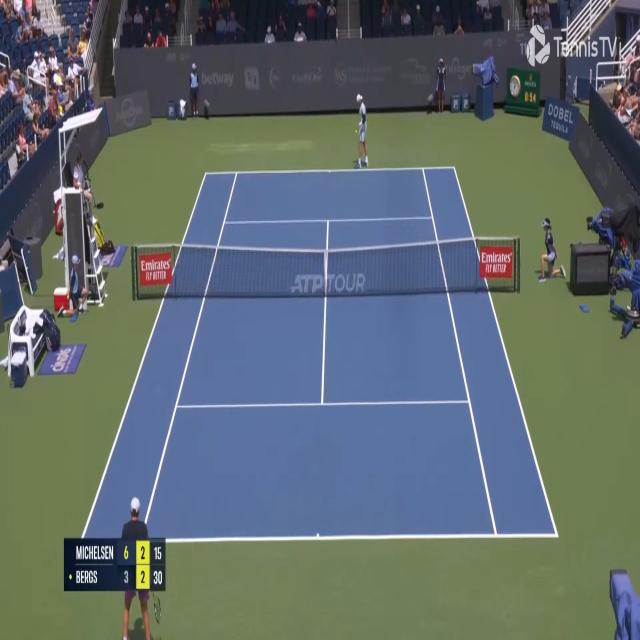tennis-player: (120, 496, 164, 638), (354, 90, 369, 170)
